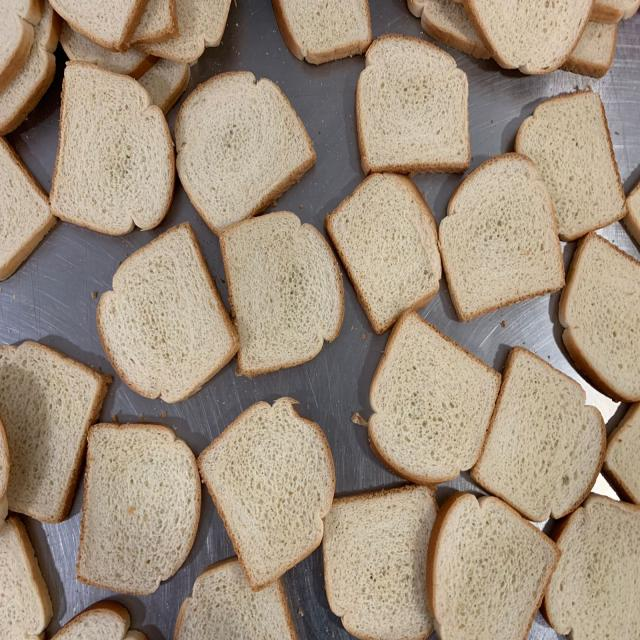sliced_bread: (96, 221, 241, 403), (199, 398, 335, 589), (469, 347, 608, 520), (368, 306, 502, 484), (175, 73, 316, 235), (51, 61, 175, 235), (438, 153, 565, 317), (77, 425, 200, 593), (218, 211, 343, 373), (426, 493, 562, 640), (325, 172, 442, 335), (321, 485, 437, 640), (517, 91, 627, 240), (357, 34, 470, 179)
